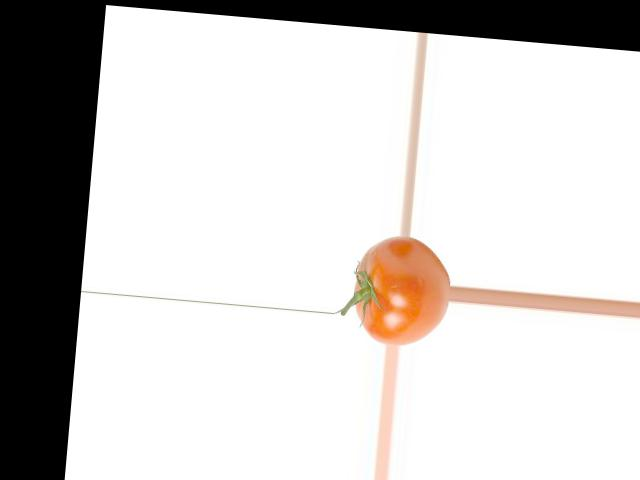tomato: (349, 231, 453, 349)
